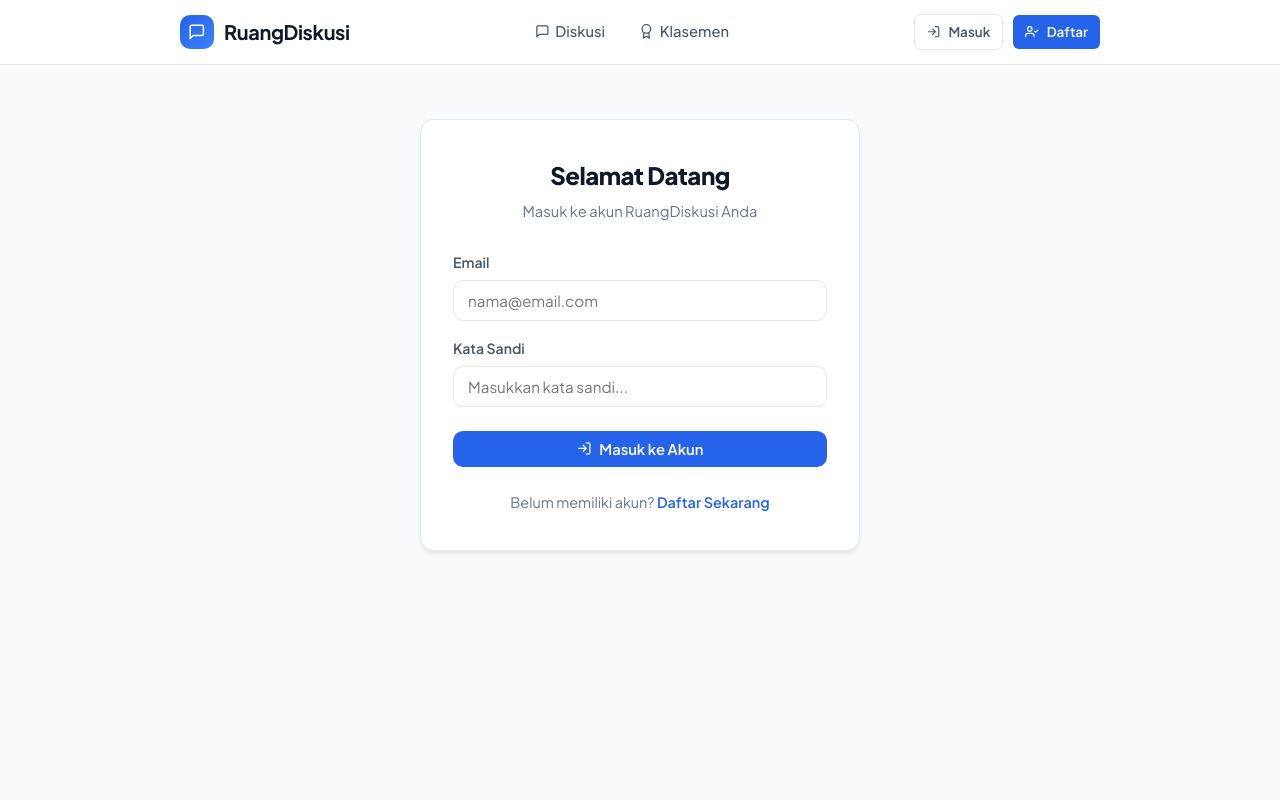
Test: Login spec › harus berhasil login dan menampilkan halaman beranda serta nama pengguna di navbar ketika kredensial valid
Type "cypress@dicoding.com" into the field with id "login-email" at point(640, 301), box [453,280,827,321]
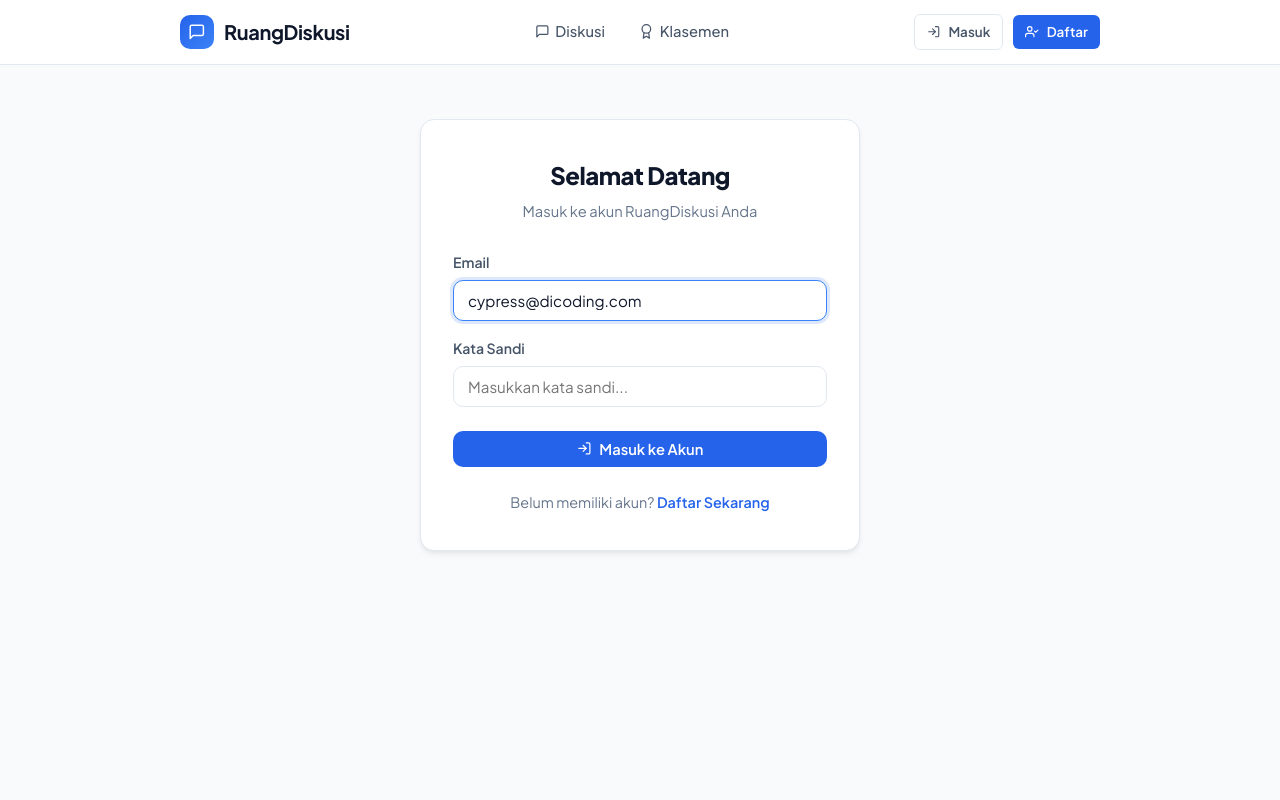
Type "password123" into the password field with id "login-password" at point(640, 387), box [453,366,827,407]
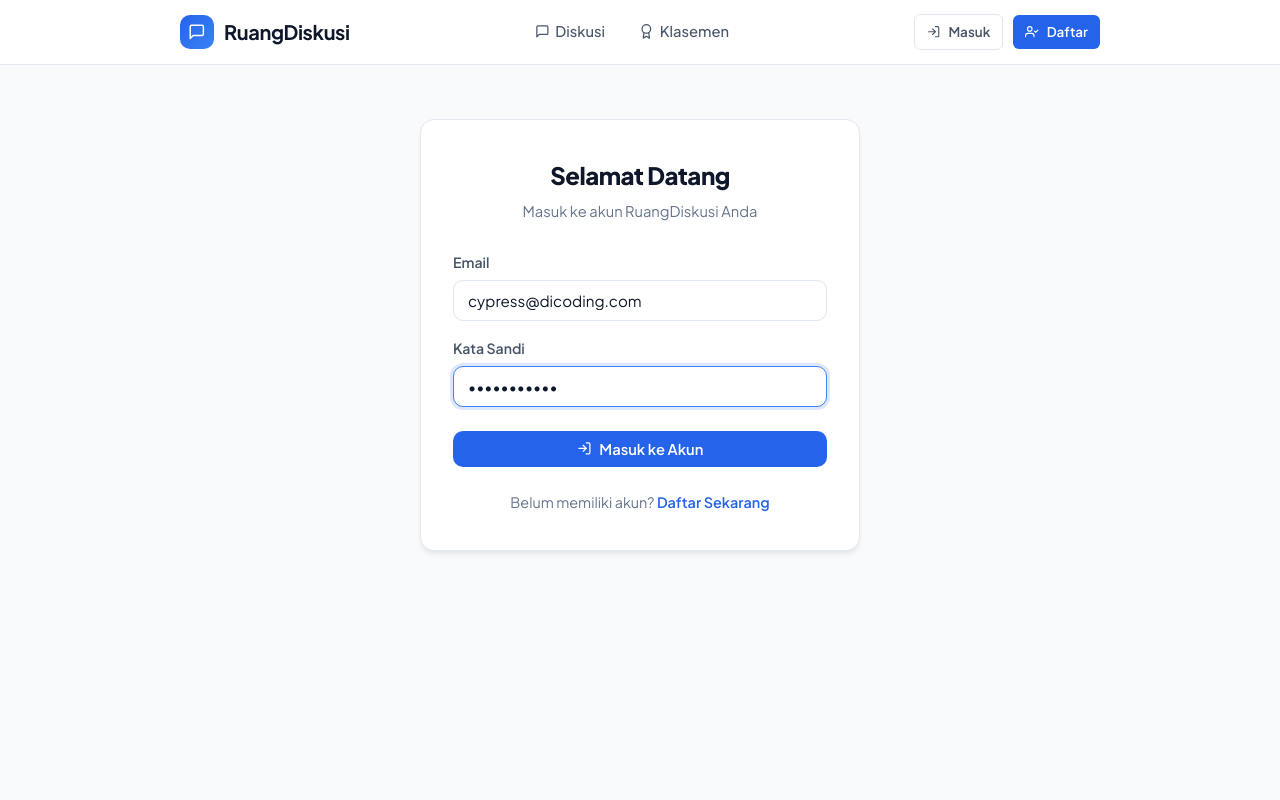
Click the submit button at point(640, 449), box [453,431,827,467]
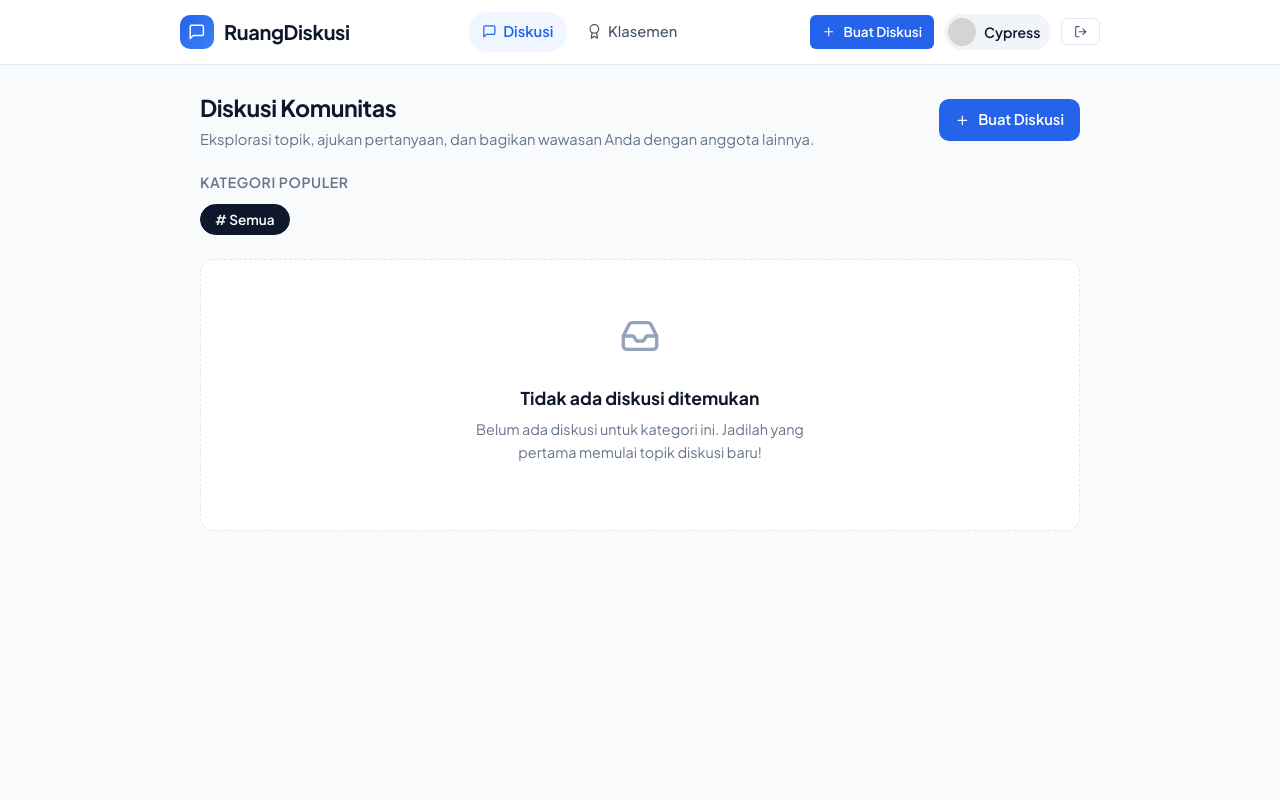
Now the element with class "user-profile-badge" is shown, box [944,14,1051,50]
Now the text with class "user-profile-badge" reads "Cypress", box [984,23,1041,41]
Now the link "Buat Diskusi" next to "Cypress" is shown, box [810,15,934,49]
